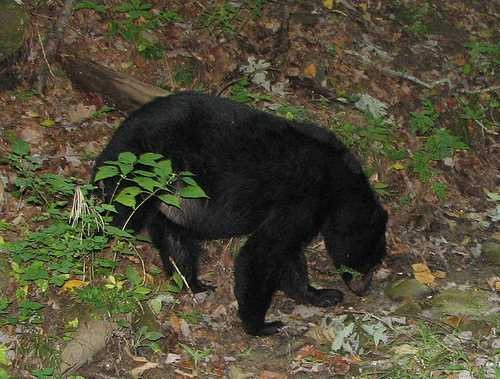bear: (284, 181, 412, 309)
